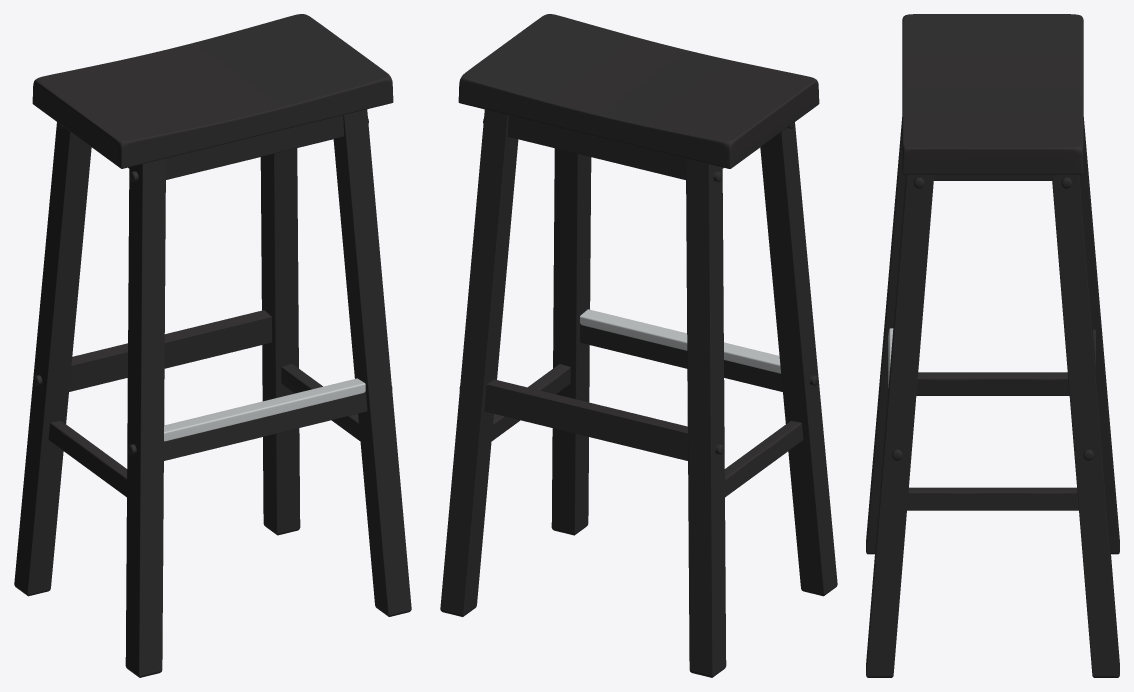
The model's file is stool_B07L6C51SC.glb.
The picture shows the model from 3 angles, left to right: view 1: azimuth 30°, elevation 25°; view 2: azimuth 150°, elevation 25°; view 3: azimuth 270°, elevation 25°; orthographic projection.
Visible parts, largest first — view 1: RootNode; view 2: RootNode; view 3: RootNode.
Part boxes in pixels (bbox=[...]): RootNode: bbox=[14, 14, 411, 677]; RootNode: bbox=[440, 14, 837, 677]; RootNode: bbox=[866, 14, 1119, 677].
Bounding box in the file's own units: 0.4056 × 0.7422 × 0.3221.
Materials: 1 (1 with a texture image).
